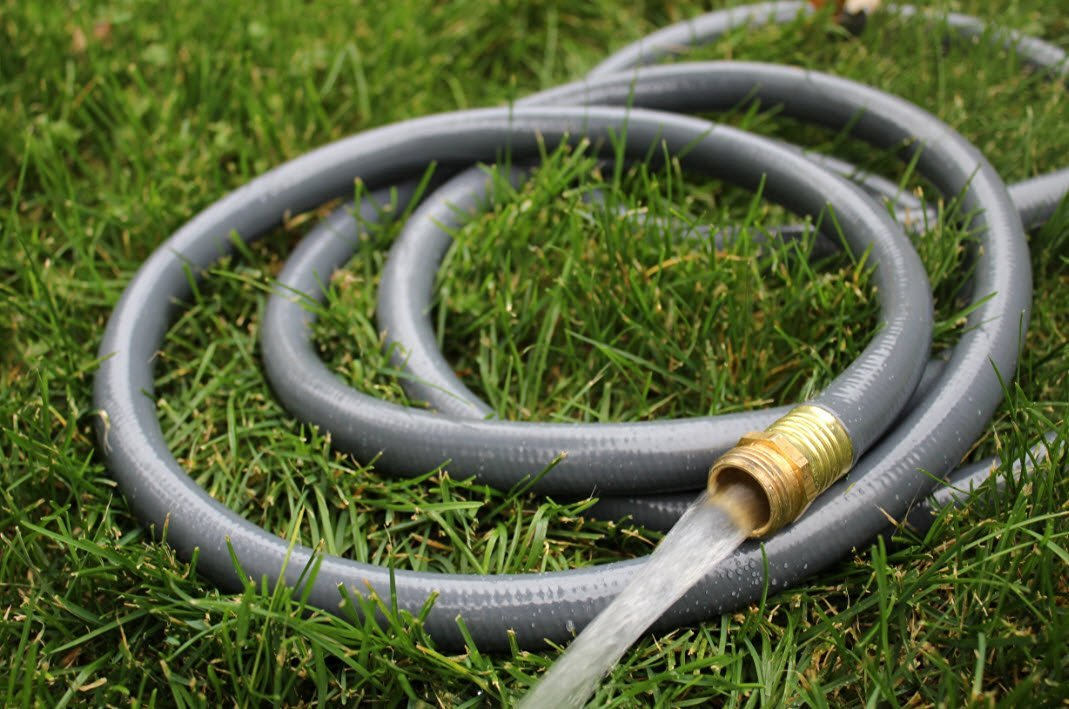Nonrec_Tangler: (38, 61, 1018, 615)
